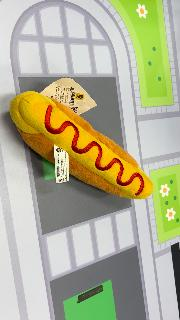hotdog: (9, 91, 154, 201)
